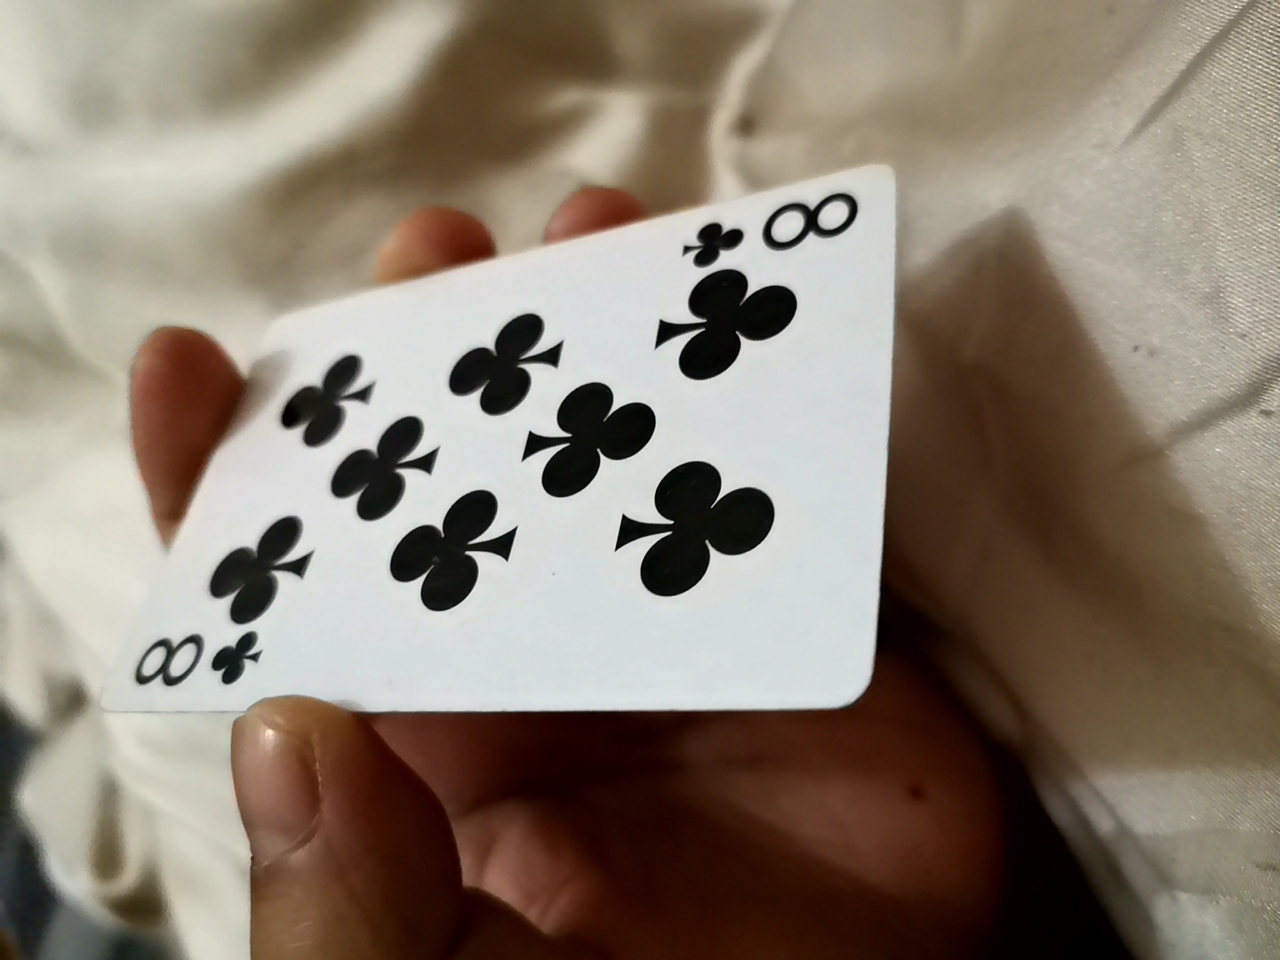mh 8: (99, 171, 910, 711)
